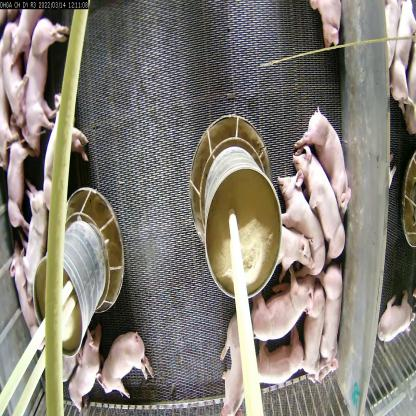Pig: (42, 94, 94, 221), (276, 167, 332, 284), (13, 11, 66, 131), (300, 97, 356, 206), (300, 146, 350, 264), (246, 271, 315, 349), (100, 325, 150, 411), (251, 336, 312, 406), (214, 313, 253, 416), (298, 282, 335, 390), (318, 260, 350, 378), (63, 336, 108, 412), (260, 206, 304, 283), (23, 192, 57, 290), (2, 140, 26, 225)
